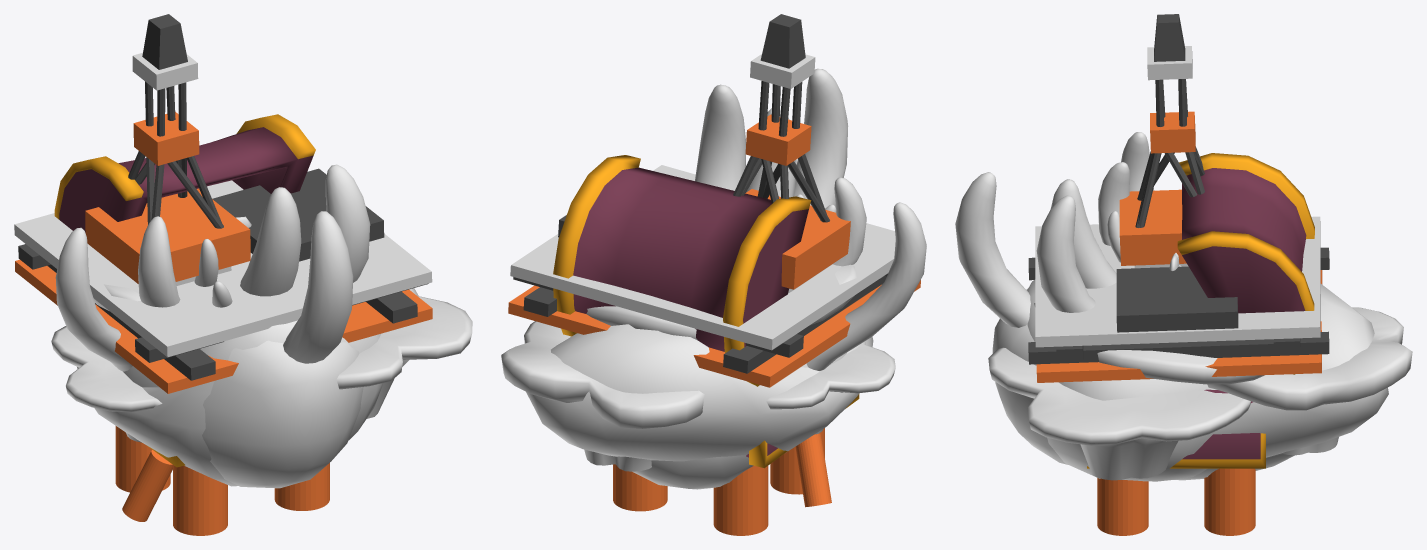
Rendered from props.glb.
3 views of the same model, side by side, from view 1: azimuth 30°, elevation 25°; view 2: azimuth 150°, elevation 25°; view 3: azimuth 270°, elevation 25° (orthographic). The views are drawn at different scales.
Visible parts, largest first — view 1: Rig, CoralB, RockA, chest, CoralA, RockB; view 2: Rig, chest, RockB, CoralB, CoralA, RockA; view 3: Rig, CoralA, chest, CoralB, RockB, RockA.
Part boxes in pixels (x1,y1,x2,y2): Rig: (14,14,432,535); CoralB: (55,164,370,371); RockA: (123,340,363,488); chest: (54,114,315,467); CoralA: (51,284,472,442); RockB: (77,320,383,486); Rig: (508,14,920,535); chest: (553,155,859,468); RockB: (526,324,873,461); CoralB: (695,68,926,370); CoralA: (501,264,895,471); RockA: (632,352,846,489); Rig: (1028,14,1329,535); CoralA: (988,303,1412,480); chest: (1087,153,1314,468); CoralB: (955,132,1154,327); RockB: (1027,279,1388,481); RockA: (992,288,1294,480).
Bounding box in the file's own units: 4.89 × 5.97 × 5.43.
